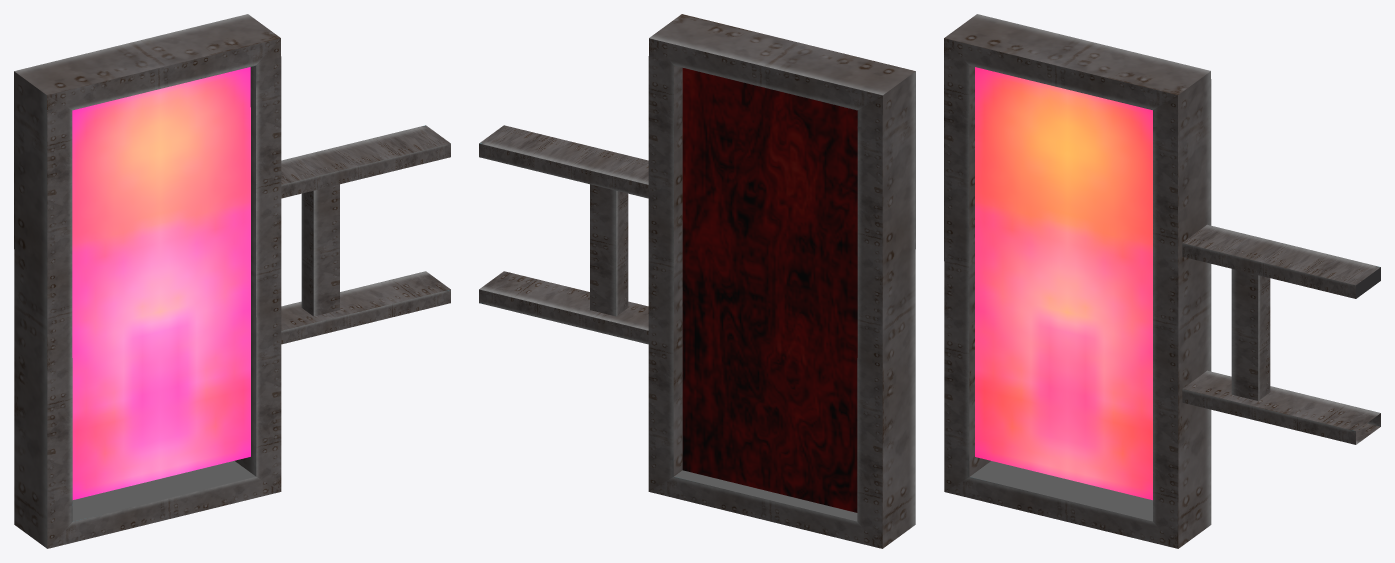
Rendered from Japanese_Sign_12.glb.
3 views of the same model, side by side, from view 1: azimuth 30°, elevation 25°; view 2: azimuth 150°, elevation 25°; view 3: azimuth 330°, elevation 25° (orthographic).
Visible parts, largest first — view 1: Japanese_Sign_12; view 2: Japanese_Sign_12; view 3: Japanese_Sign_12.
Boxes of the visible parts, x1,y1,x2,y2 form: Japanese_Sign_12: (14, 14, 450, 548); Japanese_Sign_12: (479, 14, 915, 548); Japanese_Sign_12: (944, 14, 1380, 548).
Bounding box in the file's own units: 0.6693 × 0.7115 × 0.0941.
4 materials, 3 textured.
